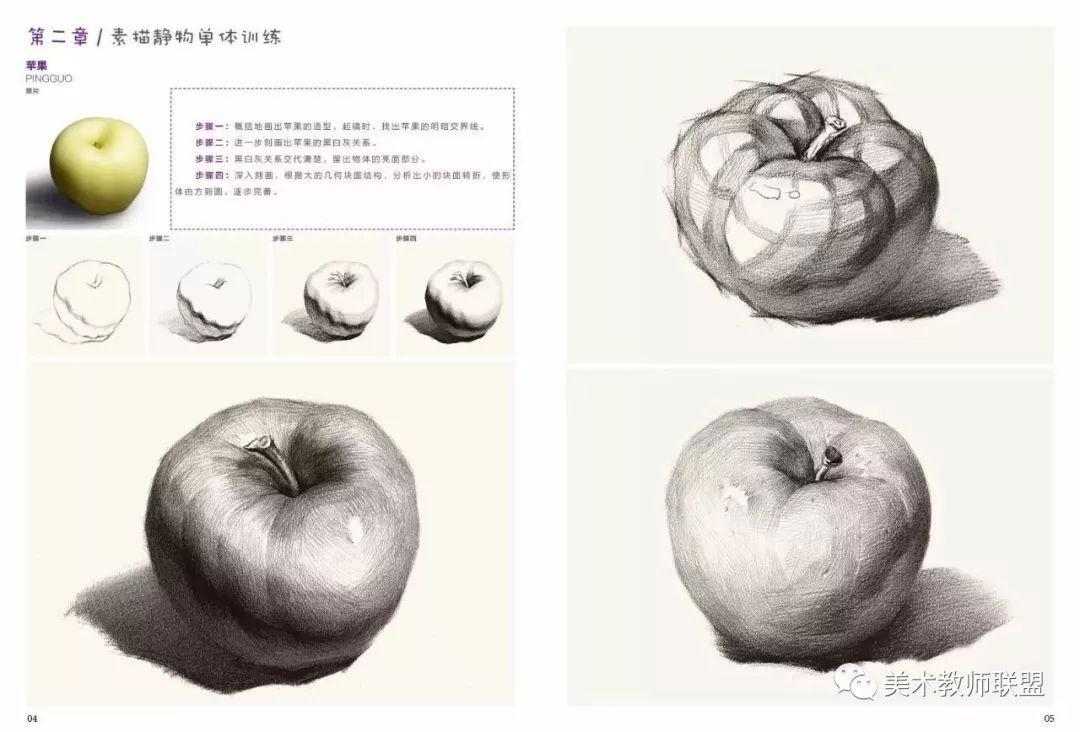apple: (47, 116, 149, 215)
